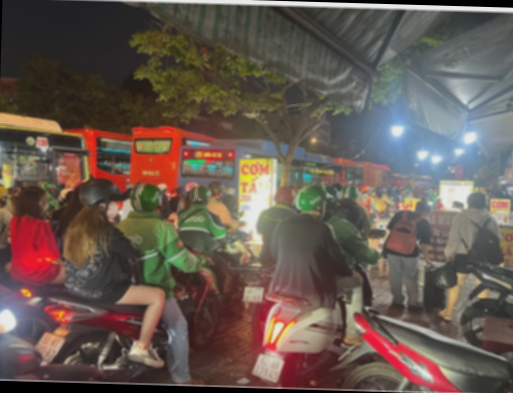Bien-so: (242, 353, 280, 384), (29, 327, 59, 360), (234, 287, 257, 305)
